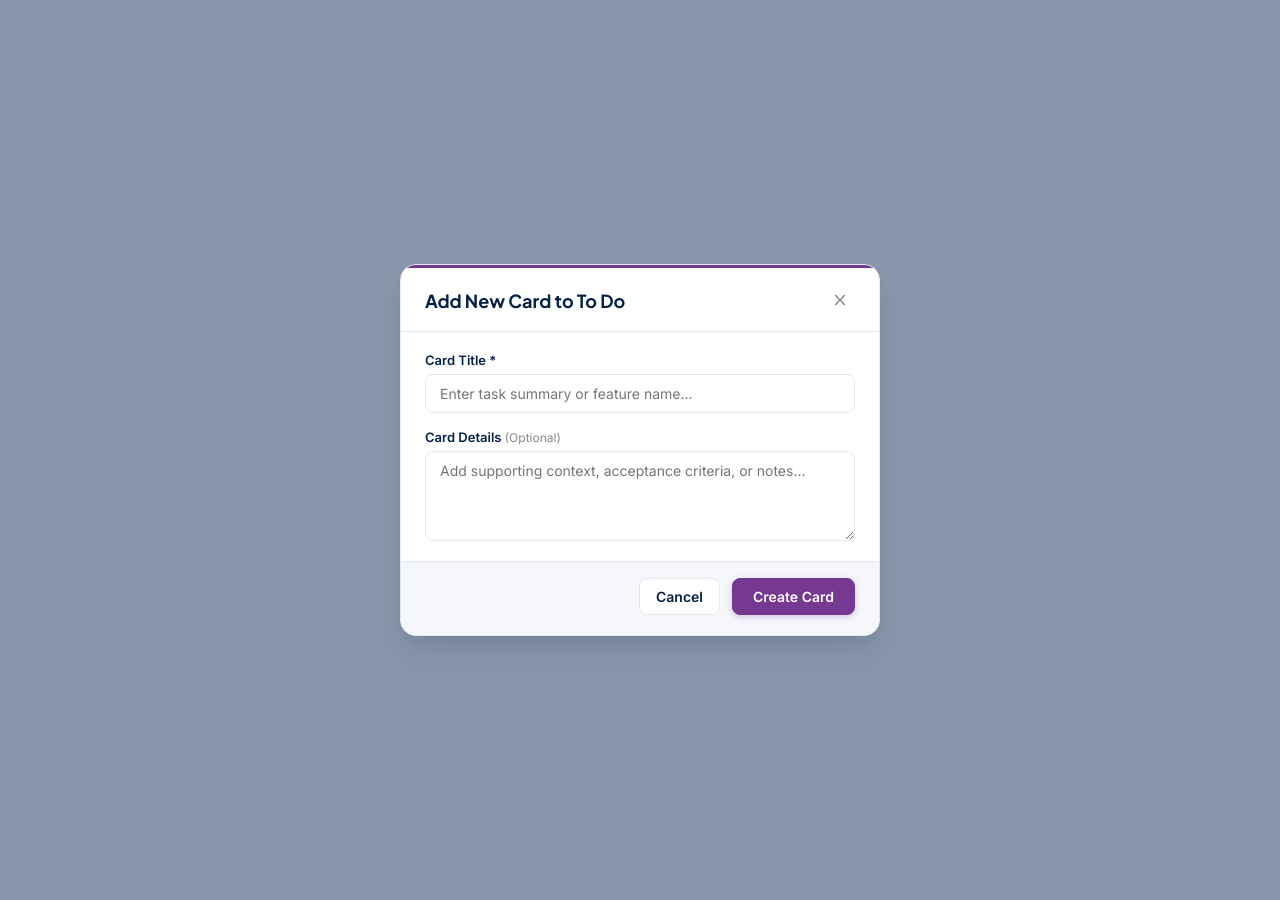
it: AddCardModal Component › shows error validation if title is empty
This screenshot has width=1280, height=900.
Click the button with test id "btn-submit-card": {"x": 794, "y": 596} [732,578,855,615]
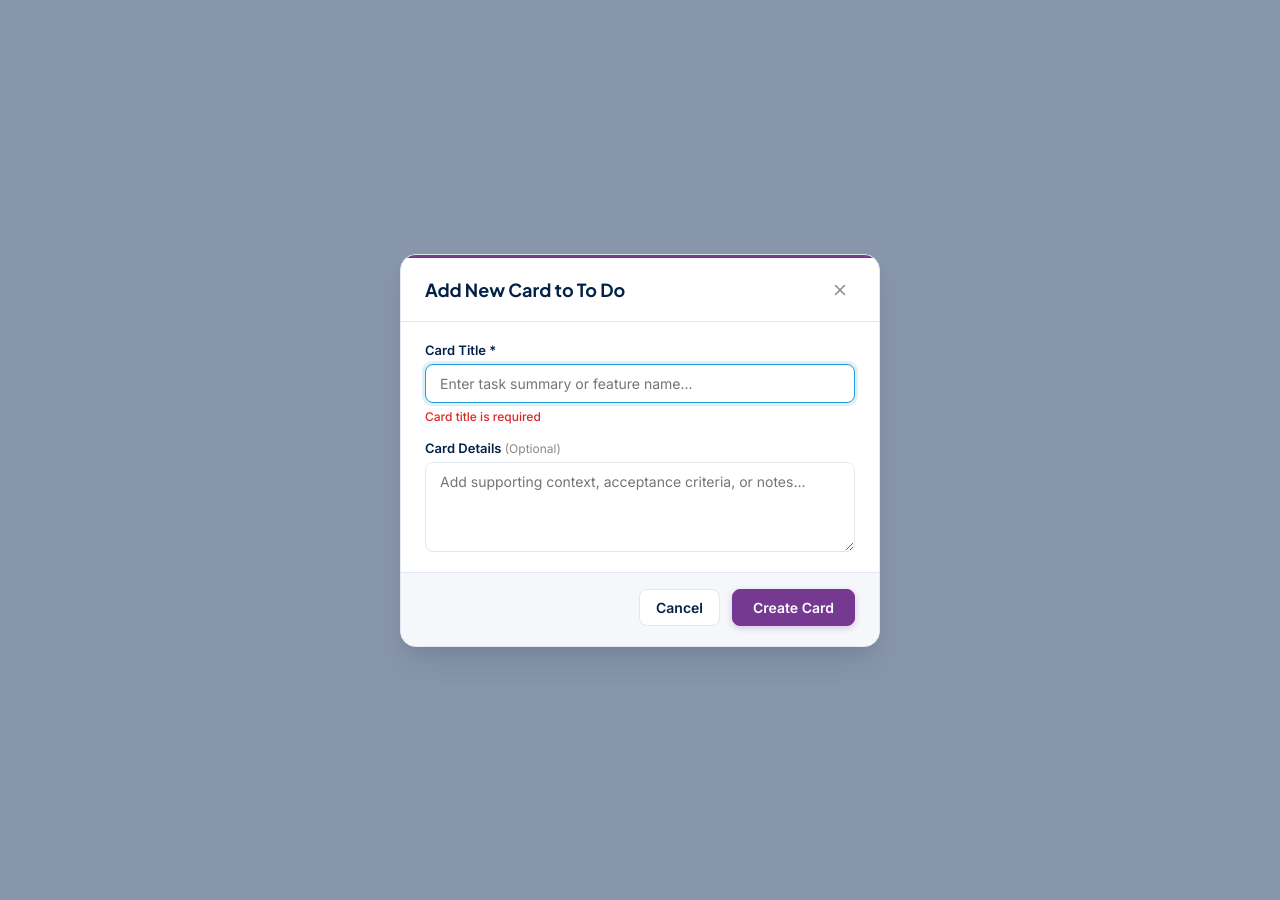
Check: the text "Card title is required" is shown, box [425,408,541,424]
